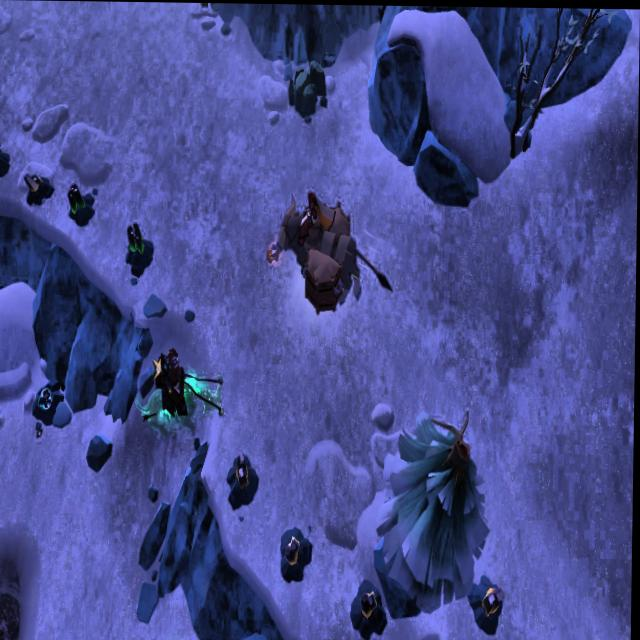ore_t3: (125, 218, 145, 258), (66, 178, 86, 217)
rock_t3: (281, 52, 331, 123)
